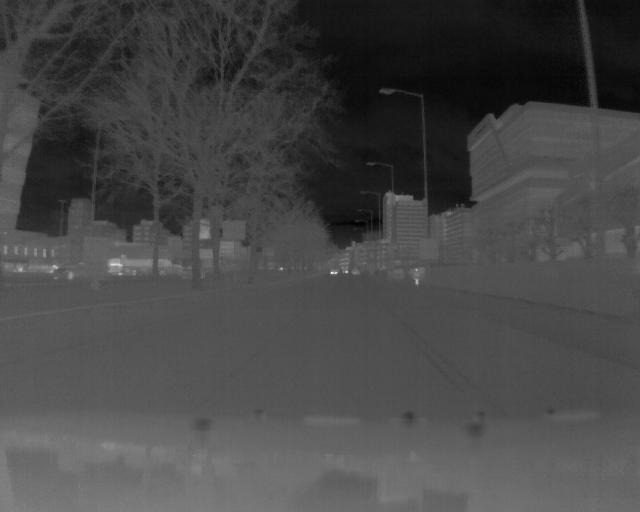person: (412, 265, 420, 289)
